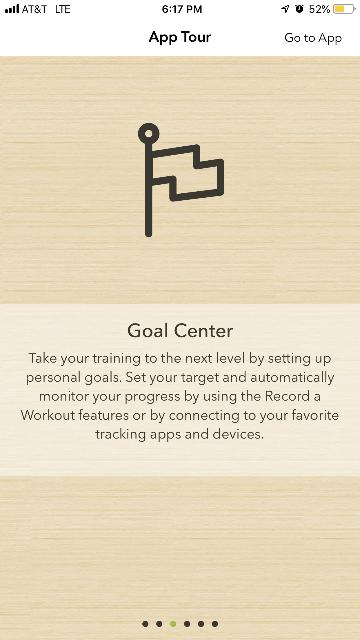Image: (137, 122, 223, 236)
PageIndicator: (140, 618, 220, 628)
Text: (19, 351, 339, 441), (127, 322, 233, 338), (149, 30, 211, 44), (284, 32, 340, 44)
UpperTaskBar: (0, 0, 360, 14)
